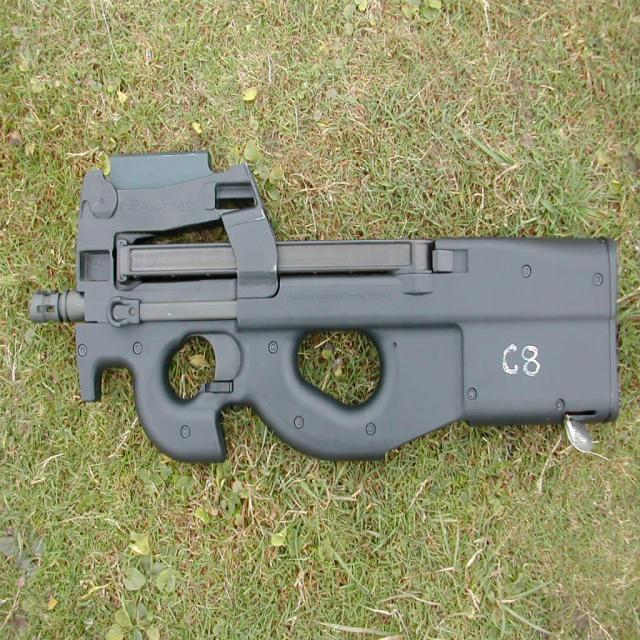Gun: (50, 149, 624, 448)
